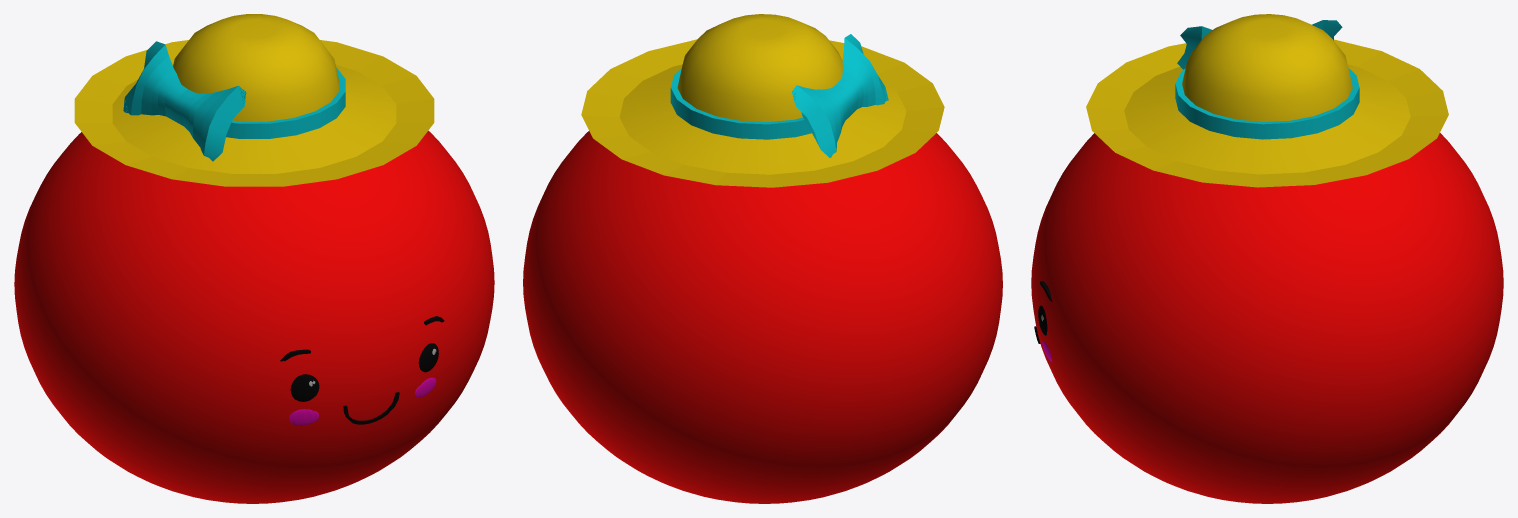
The model's file is Mama.fbx.
3 views of the same model, side by side, from view 1: azimuth 30°, elevation 25°; view 2: azimuth 150°, elevation 25°; view 3: azimuth 270°, elevation 25° (orthographic).
Parts seen in each view (by area): view 1: pSphere1, polySurface2, polySurface1, pSphere11, yanaklar; view 2: pSphere1, polySurface2, polySurface1; view 3: pSphere1, polySurface2, polySurface1.
Part boxes in pixels (<box>): pSphere1: <box>14,130,494,503</box>; polySurface2: <box>74,14,434,186</box>; polySurface1: <box>123,41,246,161</box>; pSphere11: <box>290,343,438,401</box>; yanaklar: <box>289,377,436,425</box>; pSphere1: <box>523,131,1002,503</box>; polySurface2: <box>581,14,944,187</box>; polySurface1: <box>792,34,888,157</box>; pSphere1: <box>1031,133,1503,503</box>; polySurface2: <box>1086,14,1448,187</box>; polySurface1: <box>1177,20,1342,69</box>.
Size of the model in its own units: 7.14 by 7.37 by 7.
